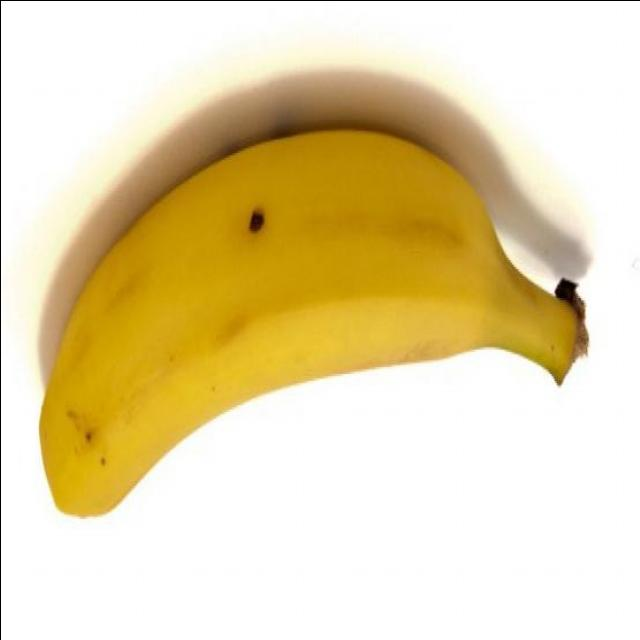banana: (31, 78, 592, 532)
